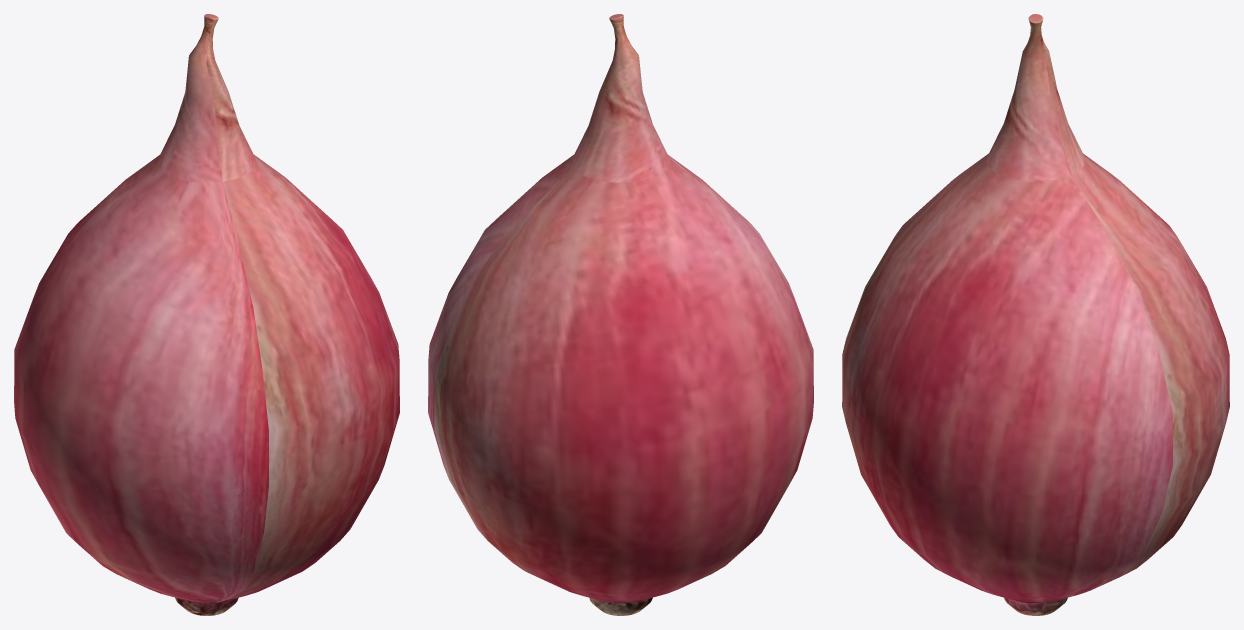
File: shallots.fbx
The picture shows the model from 3 angles, left to right: view 1: azimuth 30°, elevation 25°; view 2: azimuth 150°, elevation 25°; view 3: azimuth 270°, elevation 25°; orthographic projection.
Parts seen in each view (by area): view 1: shallot; view 2: shallot; view 3: shallot.
Boxes of the visible parts, x1,y1,x2,y2 form: shallot: [14, 14, 399, 615]; shallot: [428, 14, 813, 615]; shallot: [842, 14, 1229, 615].
Size of the model in its own units: 264 by 445 by 264.
Materials: 1 (1 with a texture image).
